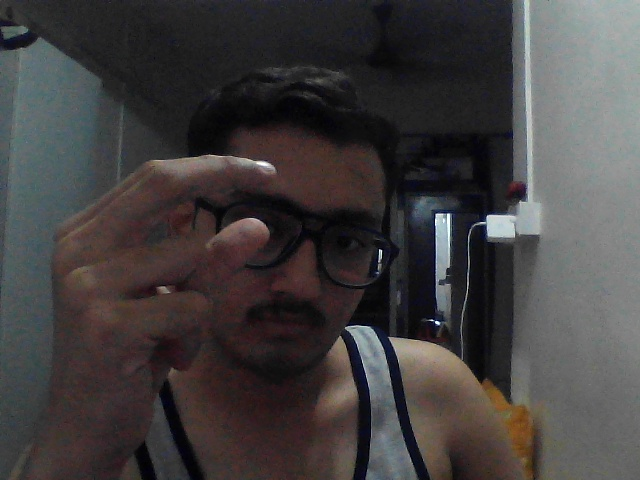No: (8, 147, 296, 417)
